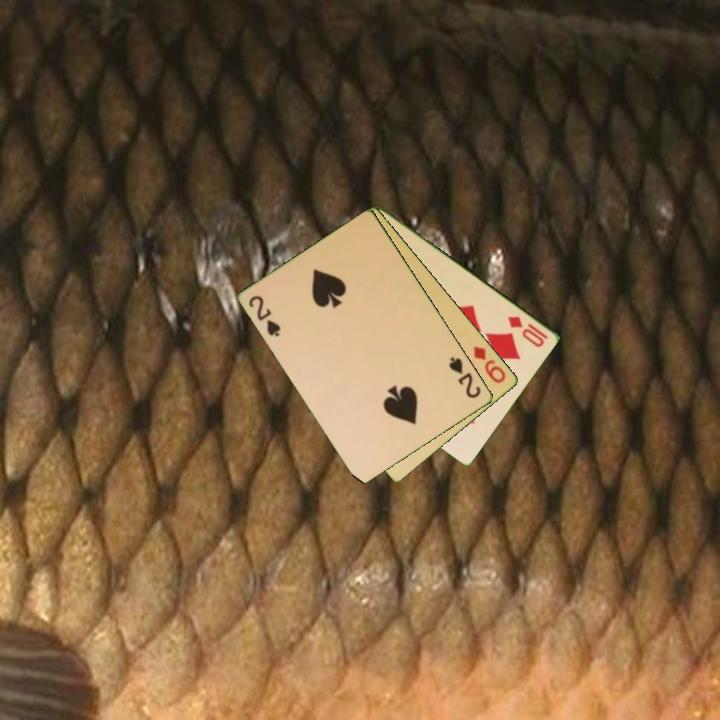10d: (504, 312, 552, 350)
2s: (245, 292, 284, 340), (446, 353, 484, 401)
9d: (470, 342, 509, 386)
